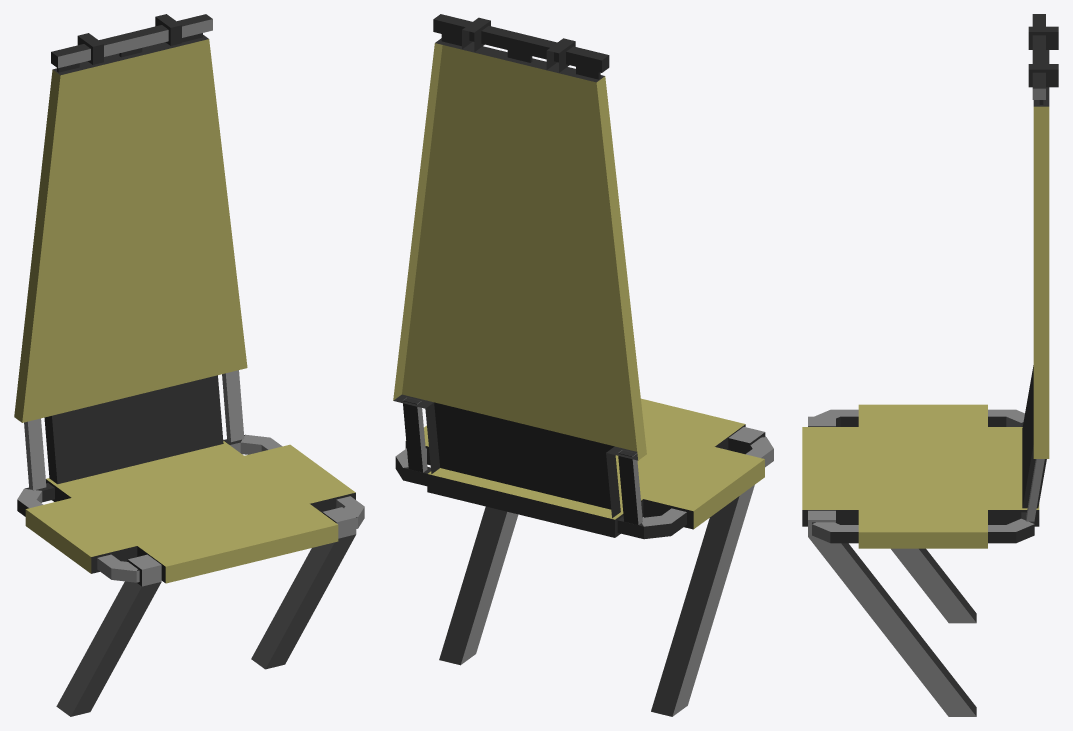
The model's file is CanvasSeat.fbx.
3 views of the same model, side by side, from view 1: azimuth 30°, elevation 25°; view 2: azimuth 150°, elevation 25°; view 3: azimuth 270°, elevation 25° (orthographic). The views are drawn at different scales.
Parts seen in each view (by area): view 1: Black Hawk; view 2: Black Hawk; view 3: Black Hawk.
Boxes of the visible parts, bbox=[...] form: Black Hawk: bbox=[14, 14, 364, 716]; Black Hawk: bbox=[393, 14, 773, 716]; Black Hawk: bbox=[802, 14, 1058, 716].
Bounding box in the file's own units: 68 × 153 × 57.83.
